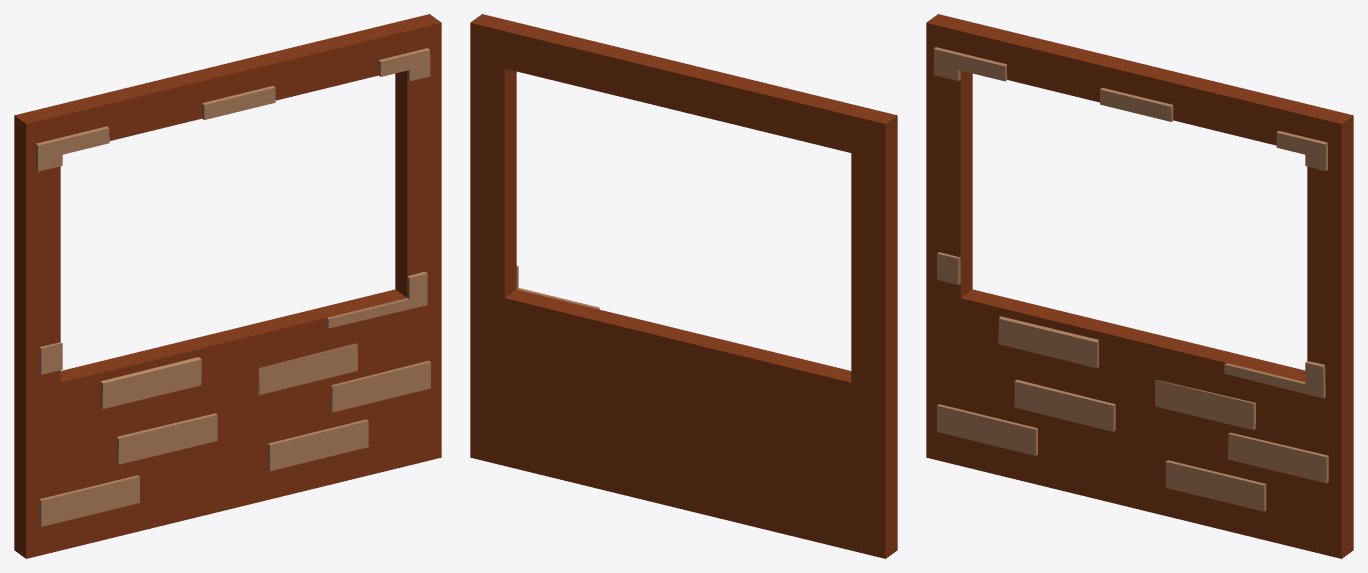
Rendered from BrickV2WindowFrame.fbx.
3 renders of one model, left to right at view 1: azimuth 30°, elevation 25°; view 2: azimuth 150°, elevation 25°; view 3: azimuth 330°, elevation 25°, orthographic.
Visible parts, largest first — view 1: BrickV2WindowFrame; view 2: BrickV2WindowFrame; view 3: BrickV2WindowFrame.
Part boxes in pixels (left/top/right/bottom): BrickV2WindowFrame: left=14, top=14, right=441, bottom=558; BrickV2WindowFrame: left=470, top=14, right=897, bottom=558; BrickV2WindowFrame: left=926, top=14, right=1353, bottom=558.
Bounding box in the file's own units: 200 × 200 × 11.75.
